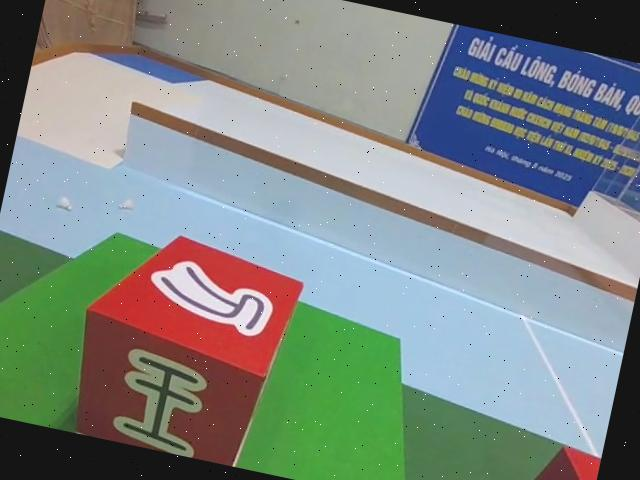R2 Fake: (57, 214, 311, 474)
